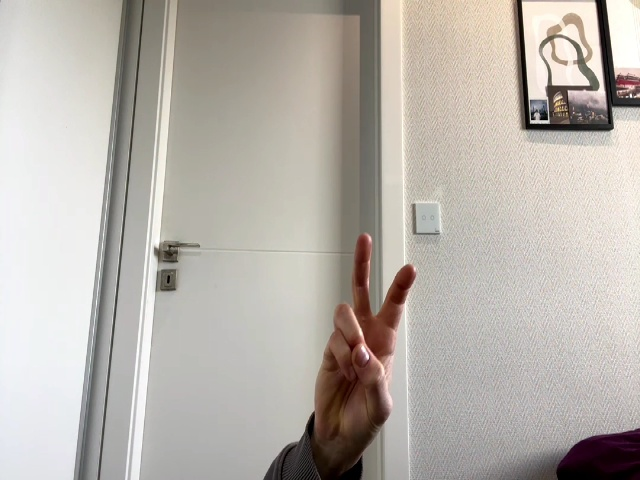H: (313, 233, 417, 442)
